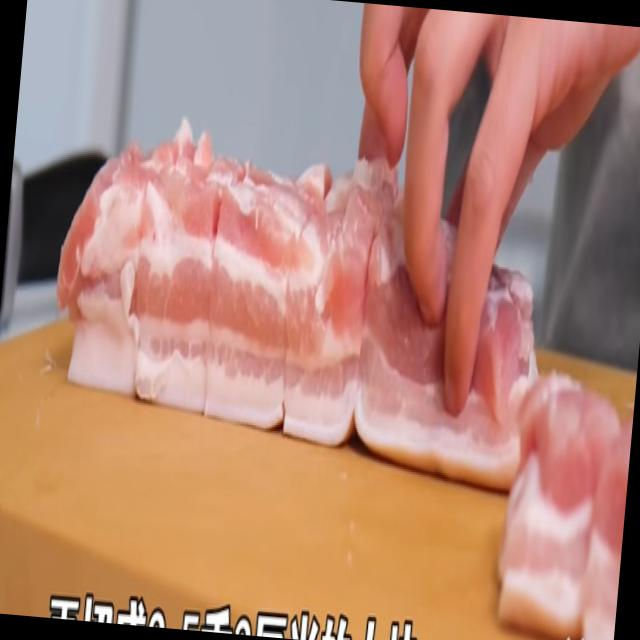--: (25, 110, 543, 510), (496, 349, 637, 640)
